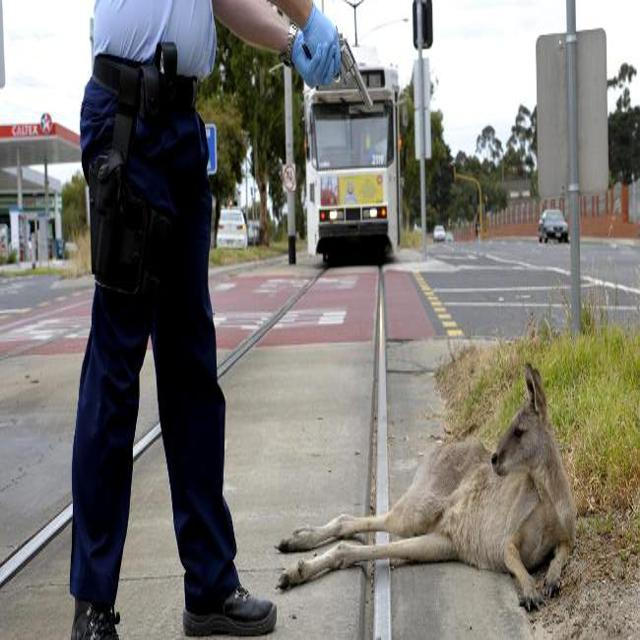kangaroo: (284, 370, 575, 602)
